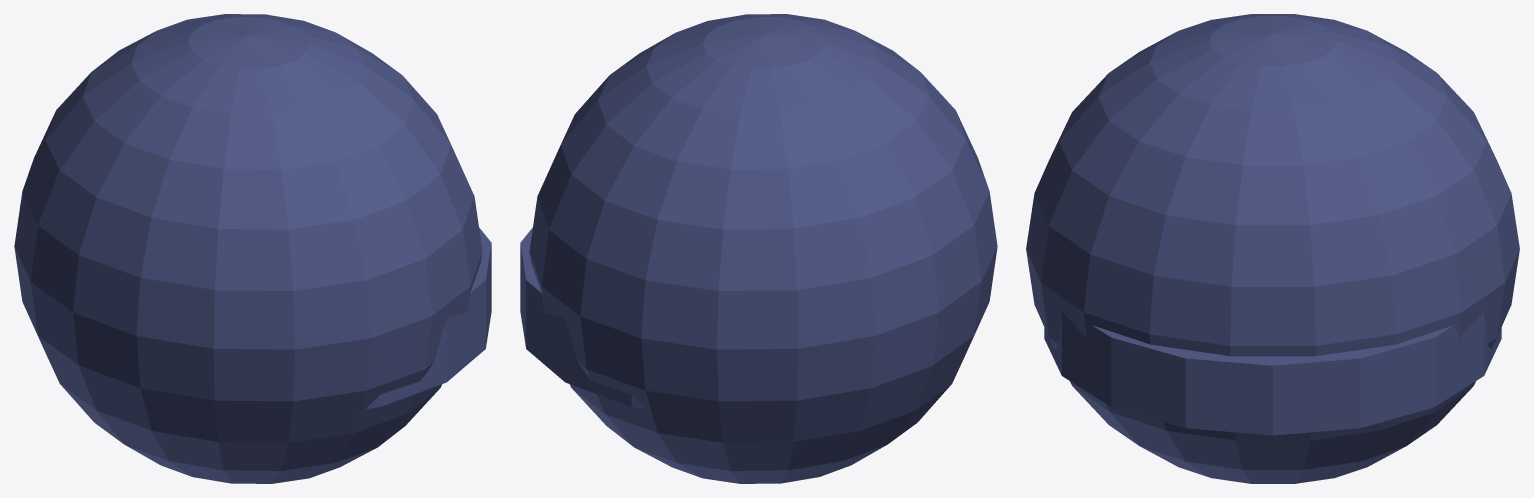
File: SM_Hat_Beanie.fbx
3 views of the same model, side by side, from view 1: azimuth 30°, elevation 25°; view 2: azimuth 150°, elevation 25°; view 3: azimuth 270°, elevation 25° (orthographic).
Visible parts, largest first — view 1: SM_Hat_Beanie; view 2: SM_Hat_Beanie; view 3: SM_Hat_Beanie.
Boxes of the visible parts, x1,y1,x2,y2 form: SM_Hat_Beanie: (14, 14, 491, 483); SM_Hat_Beanie: (520, 14, 997, 483); SM_Hat_Beanie: (1026, 14, 1519, 483).
Size of the model in its own units: 21.84 by 22.47 by 21.62.
